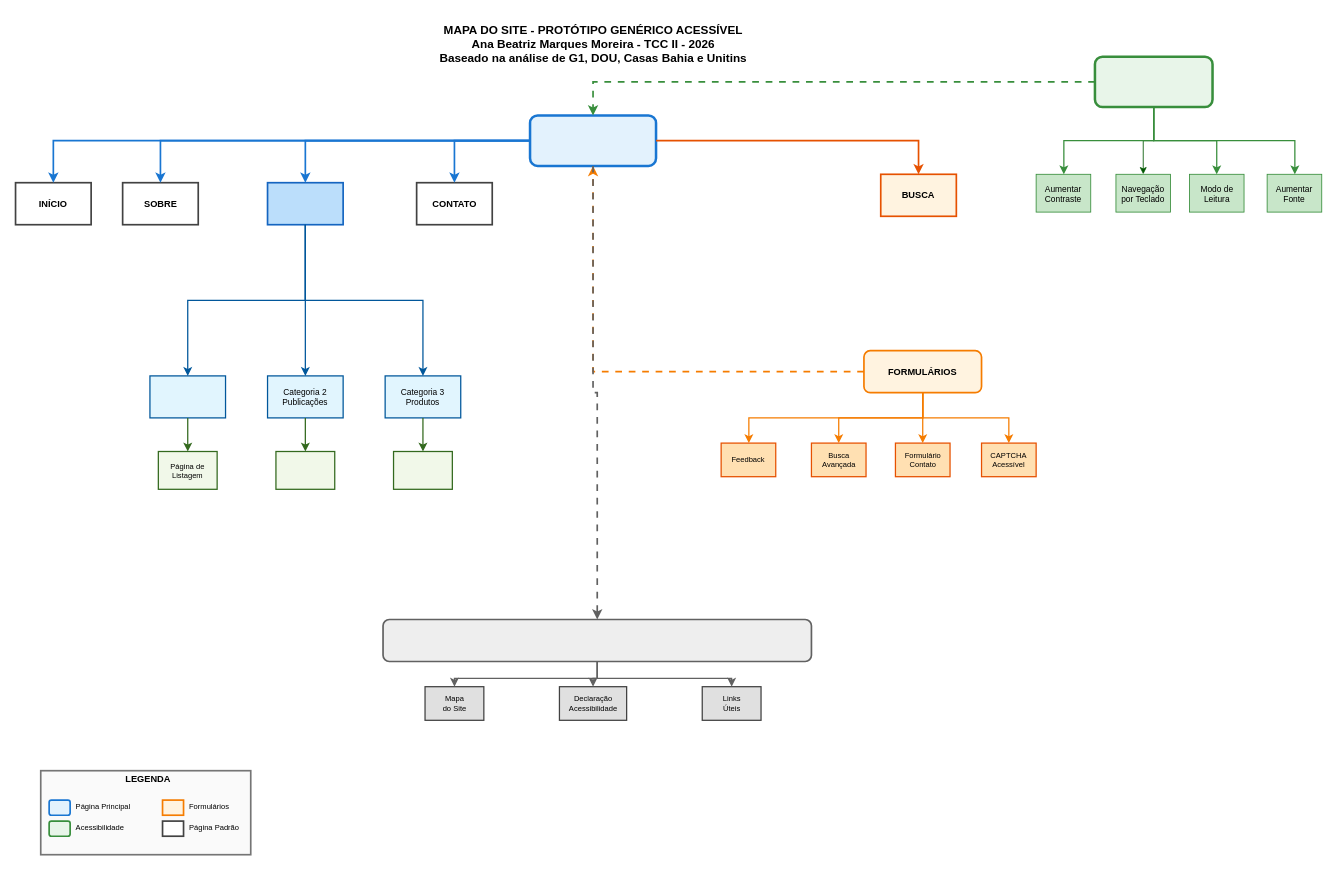
The diagram is 1336 pixels wide and 869 high, and some of its shapes have lost their labels. The centre of each missing label's shape, as x and y in pixels:
Ações do Usuário: [423,470]
Categoria 1 Notícias: [187,396]
CONTEÚDO/ SERVIÇOS: [305,203]
MENU DE ACESSIBILIDADE: [1153,81]
Página de Detalhes: [305,470]
PÁGINA INICIAL: [592,140]
RODAPÉ: [597,640]
